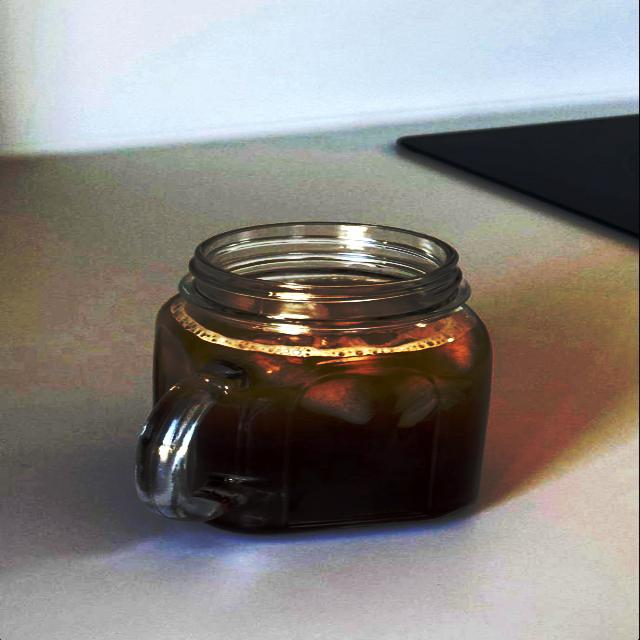drink: (135, 217, 490, 536)
